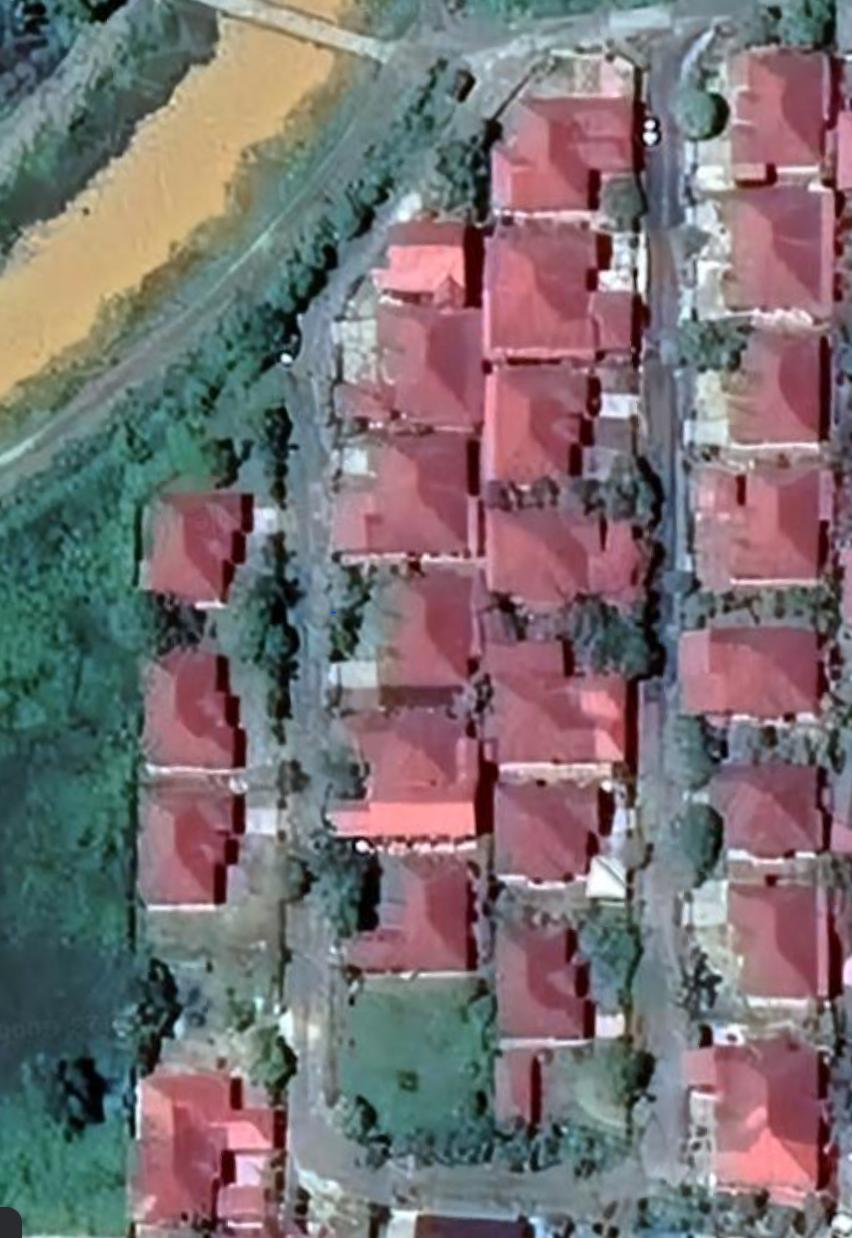building: (667, 1027, 849, 1222), (115, 1061, 296, 1236), (483, 913, 605, 1137), (476, 611, 645, 772), (667, 875, 848, 1021), (479, 222, 654, 368), (316, 703, 485, 847), (318, 425, 481, 574), (311, 569, 478, 714), (325, 839, 485, 984), (682, 451, 838, 599), (479, 496, 659, 624), (483, 85, 649, 220), (485, 773, 644, 910), (478, 362, 648, 487), (662, 619, 838, 739), (310, 305, 480, 429), (684, 758, 848, 875), (125, 483, 264, 619), (715, 184, 846, 323), (123, 645, 259, 777), (128, 777, 253, 918), (723, 37, 838, 188), (713, 325, 842, 450), (363, 208, 475, 309)
